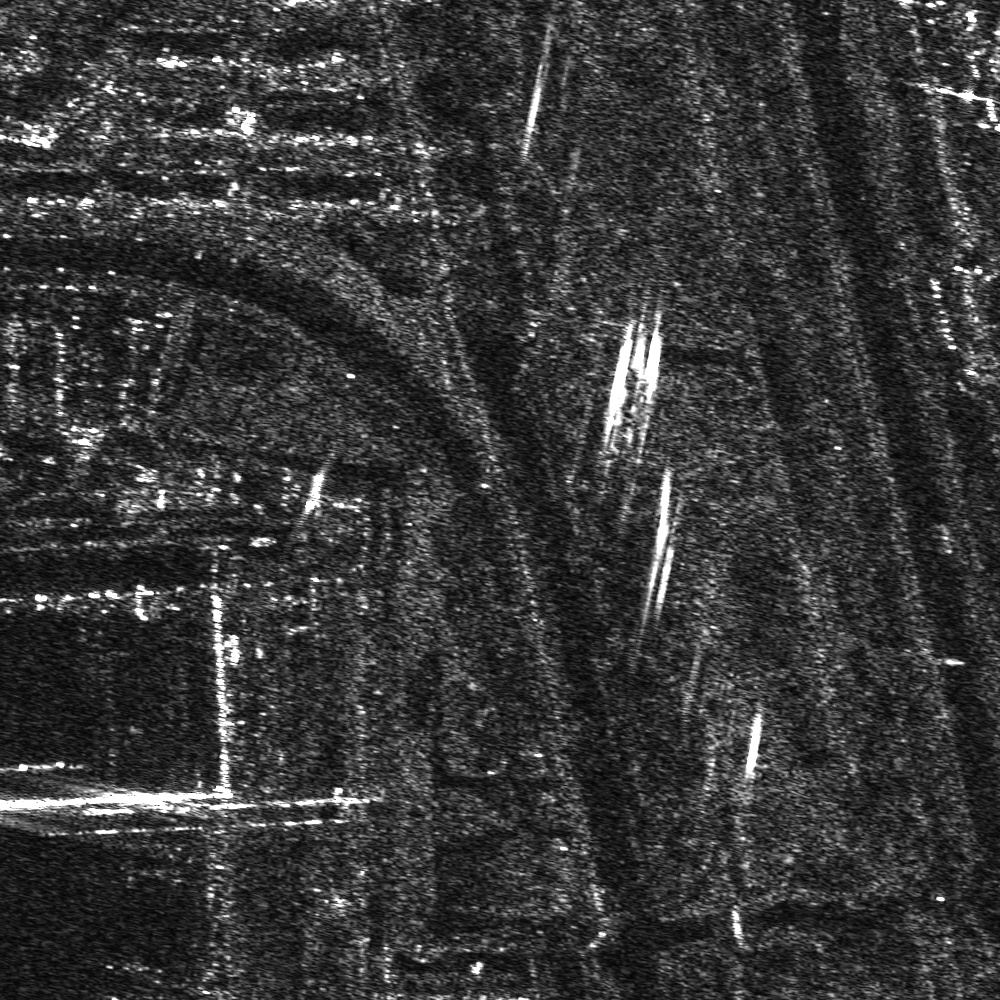A220: (105, 948, 169, 999)
